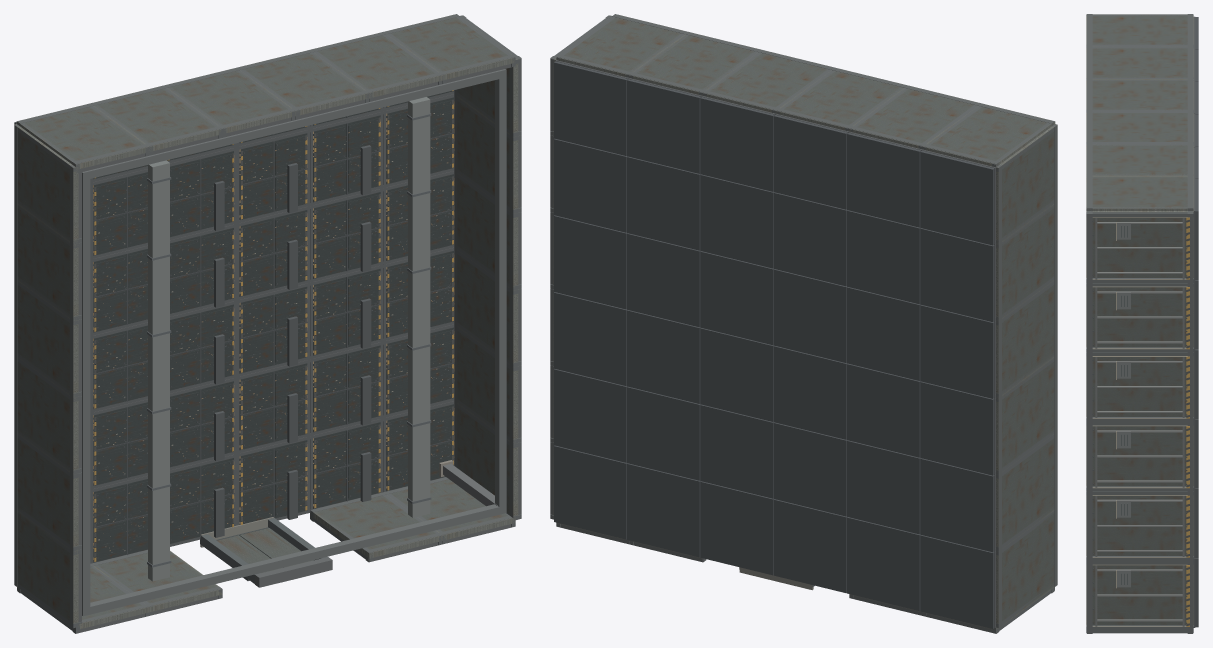
File: industrial_room_12x12.glb
3 renders of one model, left to right at view 1: azimuth 30°, elevation 25°; view 2: azimuth 150°, elevation 25°; view 3: azimuth 270°, elevation 25°, orthographic. The views are drawn at different scales.
Visible parts, largest first — view 1: Duct_3.55, Duct_-3.55, BeamNS_5.68, BeamEW_-5.68, LeftWall_5_38, LeftWall_4_38, BackWall_0_38, LeftWall_2_38, LeftWall_3_38, LeftWall_0_38, BackWall_2_38, BackWall_1_38 (+104 smaller); view 2: Floor_0_5_0, Floor_0_2_0, Floor_0_3_0, Floor_0_4_0, Floor_0_1_0, Floor_0_0_0, Floor_2_5_0, Floor_3_5_0, Floor_1_5_0, Floor_4_5_0, Floor_2_1_0, Floor_2_0_0 (+36 smaller); view 3: RightWall_0_37, RightWall_2_37, RightWall_4_37, RightWall_1_37, RightWall_3_37, RightWall_5_37, BackWall_5_38, BackWall_4_38, BackWall_2_38, BackWall_1_38, BackWall_0_38, BackWall_3_38 (+101 smaller).
Part boxes in pixels (left/top/right/bottom): Duct_3.55: left=408, top=97, right=430, bottom=517; Duct_-3.55: left=148, top=160, right=169, bottom=581; BeamNS_5.68: left=495, top=70, right=506, bottom=514; BeamEW_-5.68: left=83, top=504, right=506, bottom=616; LeftWall_5_38: left=14, top=124, right=78, bottom=244; LeftWall_4_38: left=17, top=204, right=78, bottom=321; BackWall_0_38: left=16, top=104, right=149, bottom=169; LeftWall_2_38: left=17, top=358, right=78, bottom=474; LeftWall_3_38: left=17, top=281, right=78, bottom=397; LeftWall_0_38: left=17, top=511, right=78, bottom=627; BackWall_2_38: left=165, top=68, right=295, bottom=132; BackWall_1_38: left=94, top=86, right=222, bottom=151; Floor_0_5_0: left=920, top=150, right=994, bottom=245; Floor_0_2_0: left=920, top=381, right=994, bottom=475; Floor_0_3_0: left=920, top=305, right=994, bottom=398; Floor_0_4_0: left=920, top=228, right=994, bottom=322; Floor_0_1_0: left=920, top=458, right=994, bottom=552; Floor_0_0_0: left=920, top=535, right=994, bottom=628; Floor_2_5_0: left=773, top=115, right=847, bottom=209; Floor_3_5_0: left=700, top=97, right=774, bottom=191; Floor_1_5_0: left=847, top=133, right=921, bottom=227; Floor_4_5_0: left=627, top=79, right=701, bottom=173; Floor_2_1_0: left=773, top=422, right=847, bottom=516; Floor_2_0_0: left=773, top=499, right=847, bottom=593; RightWall_0_37: left=1092, top=565, right=1186, bottom=624; RightWall_2_37: left=1092, top=426, right=1186, bottom=485; RightWall_4_37: left=1092, top=287, right=1186, bottom=346; RightWall_1_37: left=1092, top=495, right=1186, bottom=555; RightWall_3_37: left=1092, top=357, right=1186, bottom=416; RightWall_5_37: left=1092, top=218, right=1186, bottom=277; BackWall_5_38: left=1086, top=176, right=1193, bottom=210; BackWall_4_38: left=1086, top=143, right=1193, bottom=176; BackWall_2_38: left=1086, top=79, right=1193, bottom=110; BackWall_1_38: left=1086, top=46, right=1193, bottom=78; BackWall_0_38: left=1086, top=14, right=1193, bottom=44; BackWall_3_38: left=1086, top=112, right=1193, bottom=141.
Bounding box in the file's own units: 12.28 × 12.35 × 2.93.
3 materials, 2 textured.
